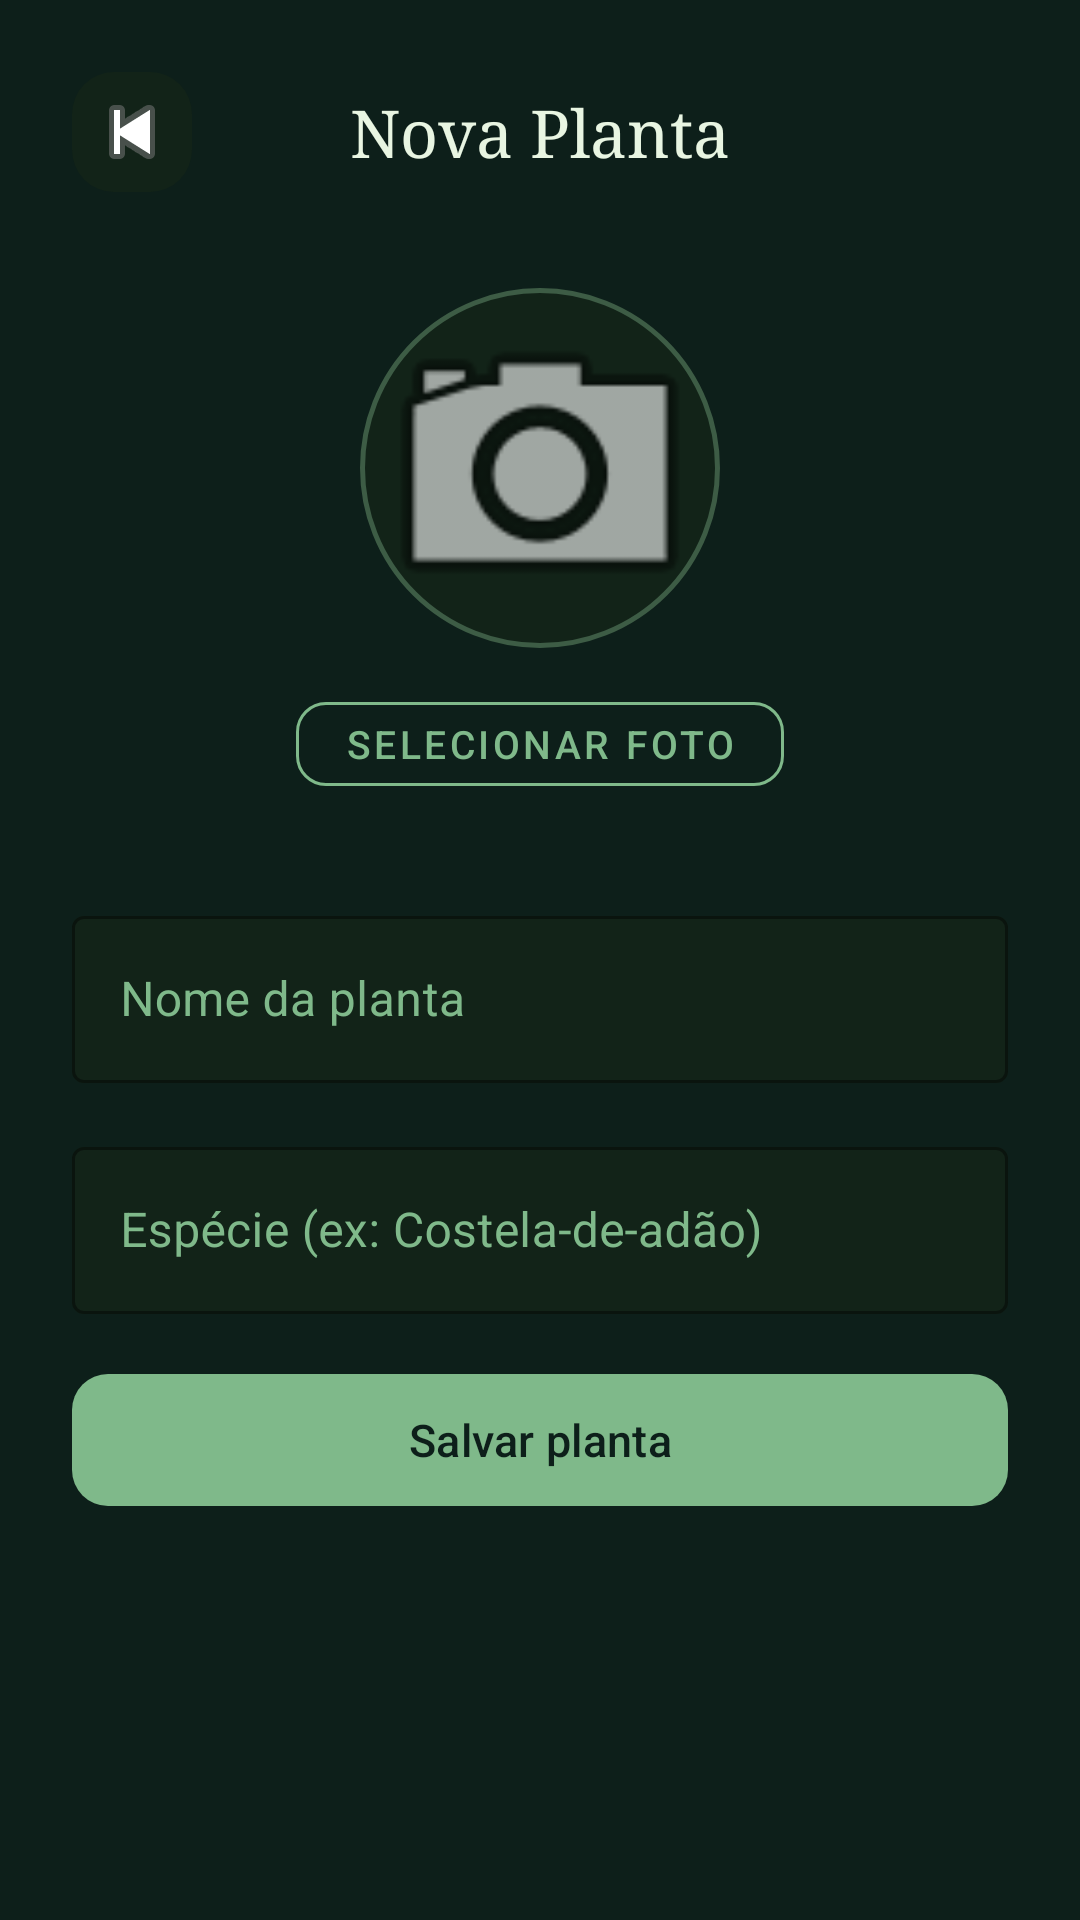

Screen size 1080 × 1920. Icon name, then its box in pixels as (x1, y1, x2, y2):
Foto da planta: (360, 288, 720, 648)
Voltar: (109, 105, 155, 159)
